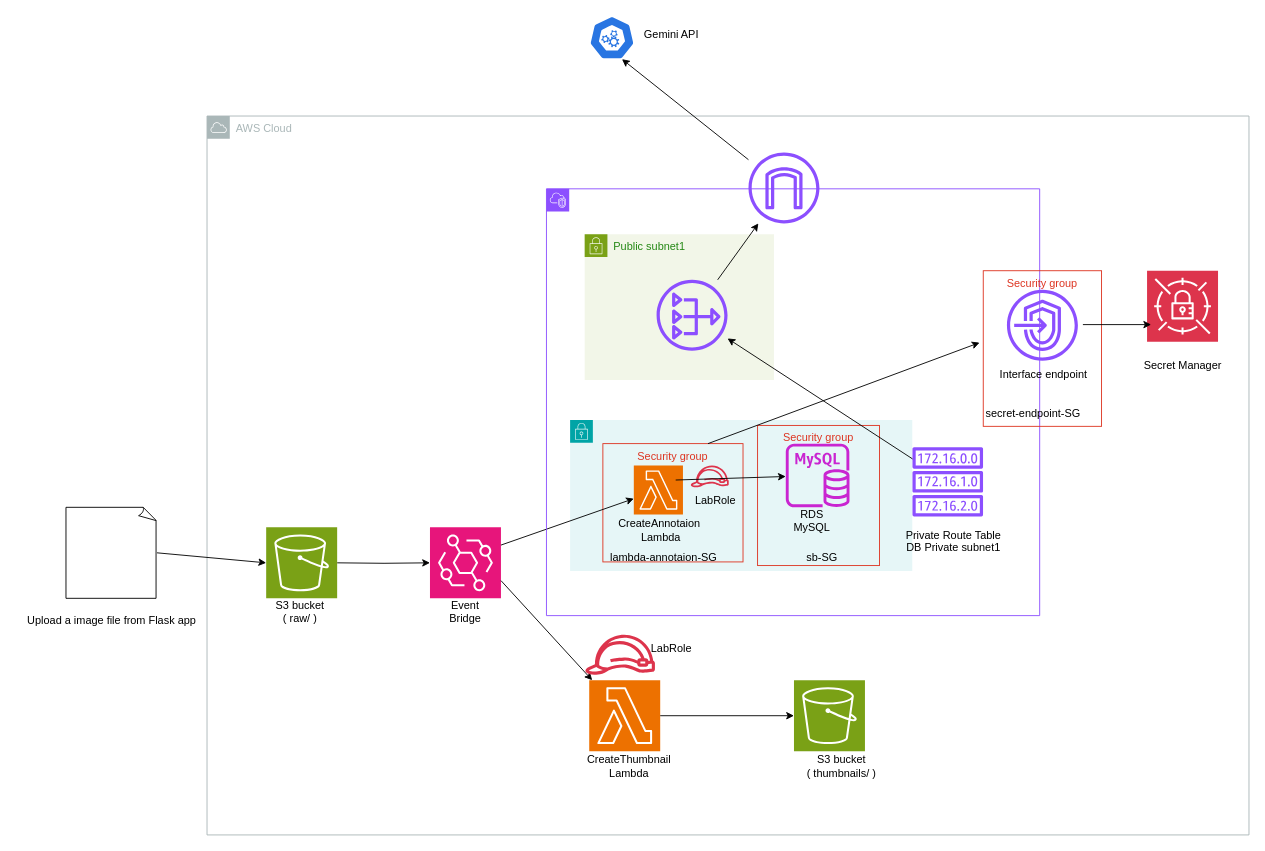
The diagram is 1265 pixels wide and 851 high, and some of its shapes have lost their labels. Here are the shapes that lost their labels. From the top down, the box of each, then its label:
(546, 188, 1040, 616): VPC
(569, 419, 912, 571): DB Private subnet1
(65, 506, 157, 598): image
